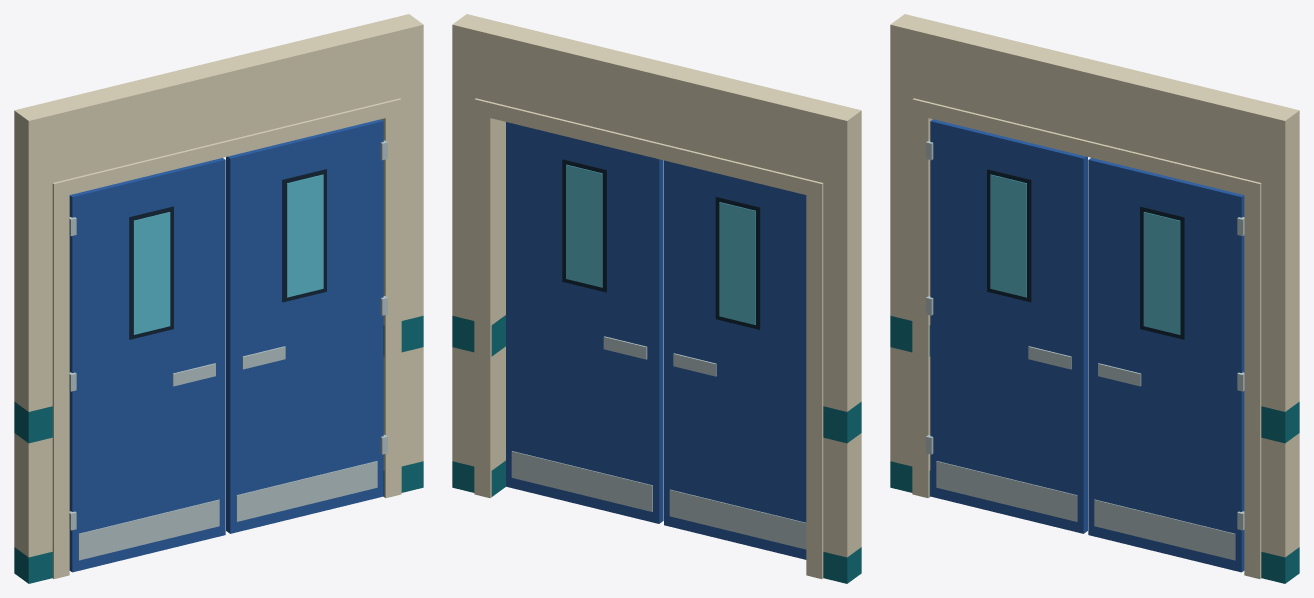
File: double-doorway.glb
3 views of the same model, side by side, from view 1: azimuth 30°, elevation 25°; view 2: azimuth 150°, elevation 25°; view 3: azimuth 330°, elevation 25° (orthographic).
Parts seen in each view (by area): view 1: Doorway_Static, Door_Leaf_Right, Door_Leaf_Left; view 2: Doorway_Static, Door_Leaf_Right, Door_Leaf_Left; view 3: Doorway_Static, Door_Leaf_Left, Door_Leaf_Right.
Boxes of the visible parts, bbox=[...] form: Doorway_Static: bbox=[14, 14, 423, 583]; Door_Leaf_Right: bbox=[226, 119, 383, 533]; Door_Leaf_Left: bbox=[69, 158, 225, 572]; Doorway_Static: bbox=[452, 14, 861, 583]; Door_Leaf_Right: bbox=[506, 122, 663, 523]; Door_Leaf_Left: bbox=[664, 160, 806, 559]; Doorway_Static: bbox=[890, 14, 1299, 583]; Door_Leaf_Left: bbox=[930, 119, 1087, 533]; Door_Leaf_Right: bbox=[1088, 158, 1244, 572].
Bounding box in the file's own units: 2.5 × 2.8 × 0.212.
Materials: 1 (1 with a texture image).
